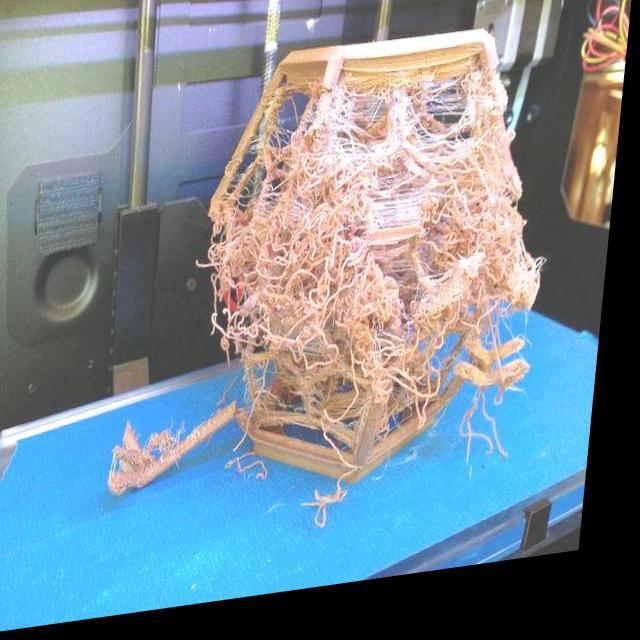spaghetti: (282, 82, 505, 223), (210, 212, 385, 388), (429, 204, 551, 358), (364, 292, 447, 451)
